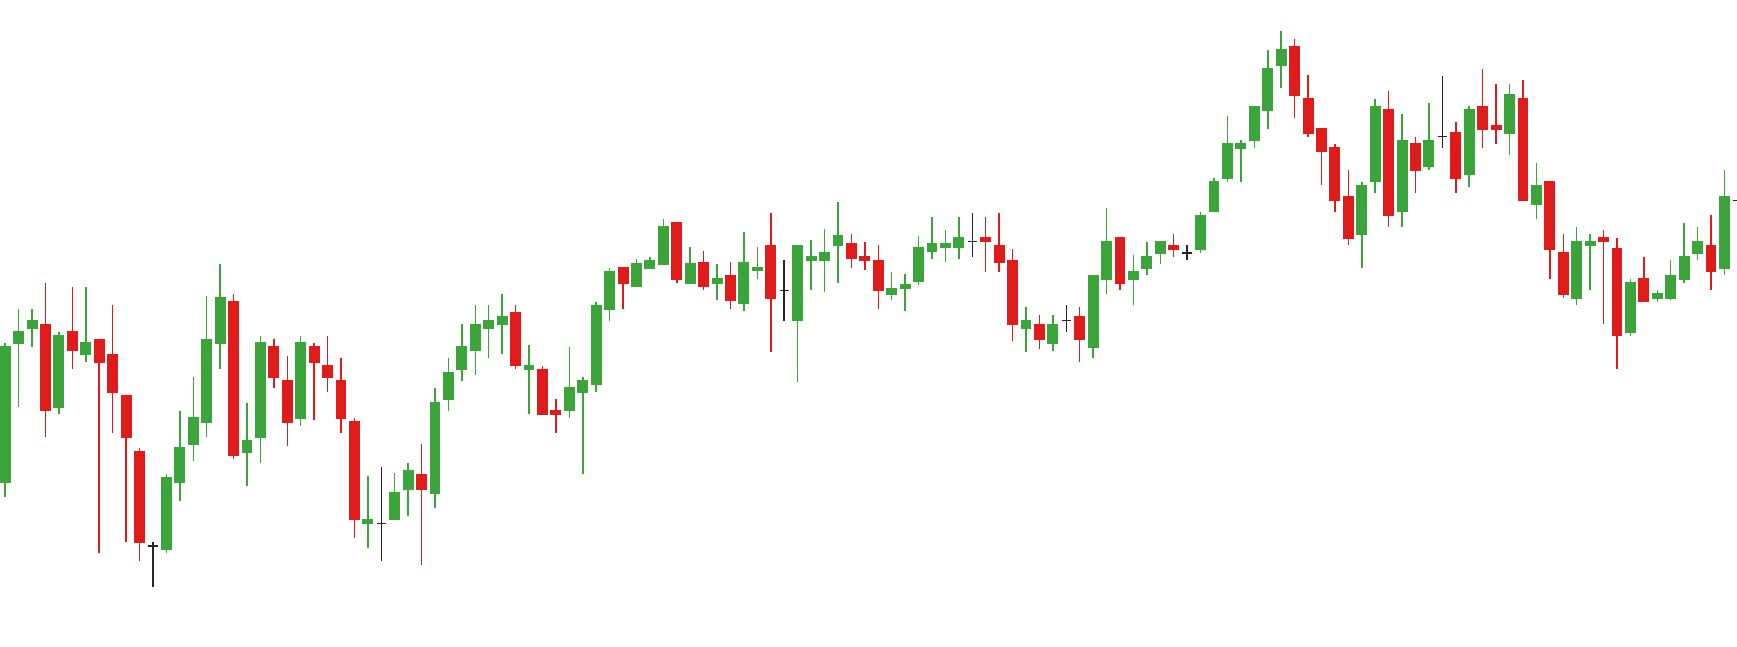sell: (66, 264, 241, 386)
